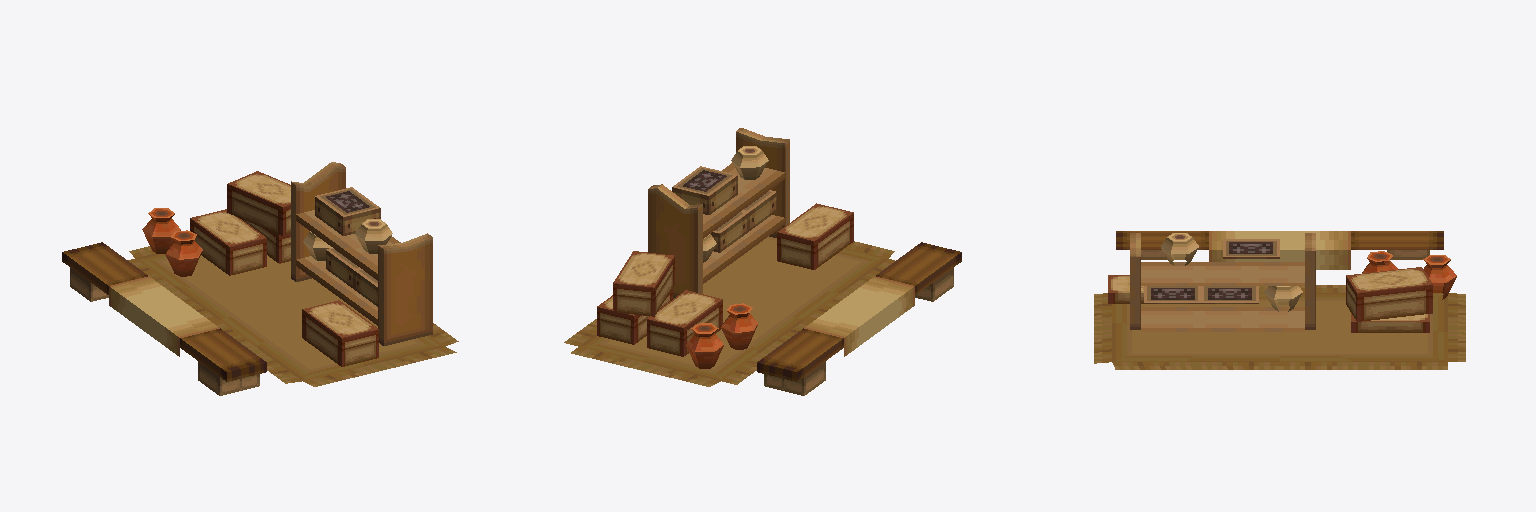
3 renders of one model, left to right at view 1: azimuth 30°, elevation 25°; view 2: azimuth 150°, elevation 25°; view 3: azimuth 270°, elevation 25°, orthographic.
Parts seen in each view (by area): view 1: polygon0; view 2: polygon0; view 3: polygon0.
Boxes of the visible parts, x1=… form: polygon0: x1=62, y1=162, x2=458, y2=395; polygon0: x1=564, y1=128, x2=961, y2=395; polygon0: x1=1094, y1=231, x2=1465, y2=369.
Bounding box in the file's own units: 9.75 × 4.48 × 13.
2 materials, 2 textured.